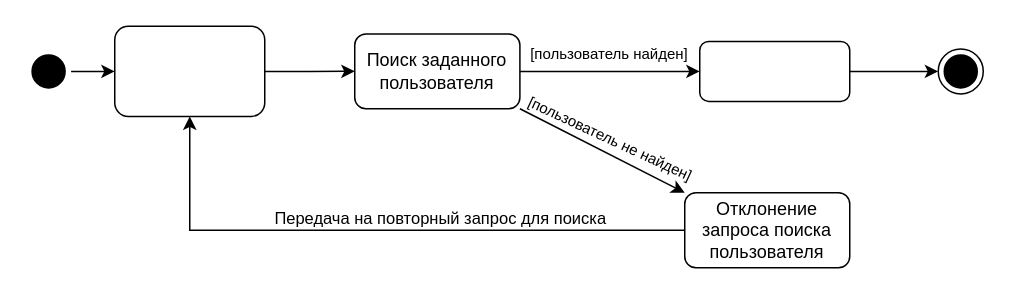
Image size: 1011x294. Some labels were removed from this diagram. The centre of each missing label's shape, as x and y in pixels:
"Просмотр постов пользователя" goes at pixel 774 70.
"Просмотр профиля пользователя" goes at pixel 189 70.
